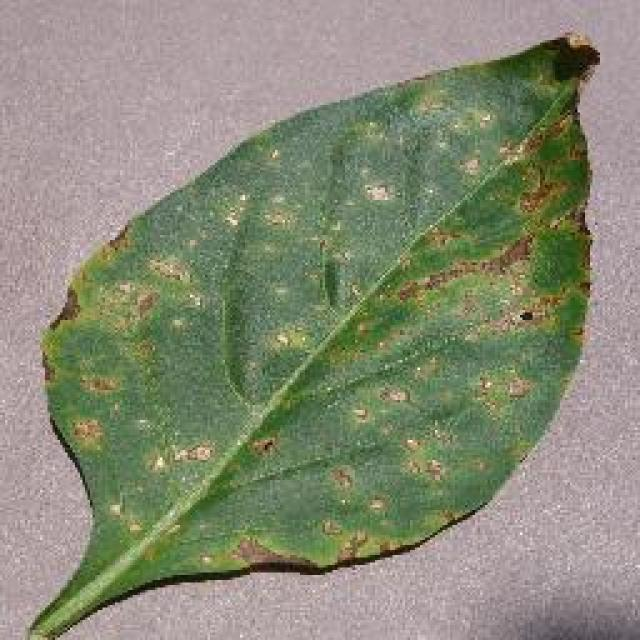Chilli_Bacterial_Spot: (22, 28, 602, 638), (142, 435, 218, 477), (548, 28, 602, 82), (142, 253, 192, 285), (65, 412, 105, 448), (75, 370, 123, 398), (170, 437, 215, 465), (128, 288, 160, 322), (325, 463, 357, 495), (375, 382, 413, 408), (360, 177, 395, 205), (560, 27, 592, 55), (248, 432, 280, 460), (345, 400, 373, 428), (362, 490, 390, 518), (515, 305, 537, 325)
